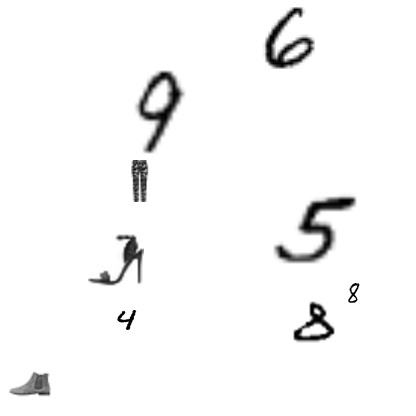4: (113, 305, 141, 333)
5: (259, 170, 371, 282)
6: (242, 2, 326, 86)
8: (286, 296, 342, 352), (339, 278, 367, 306)
9: (104, 48, 216, 160)
Ankle_boot: (9, 363, 51, 405)
Sandal: (88, 231, 144, 287)
Trouser: (118, 160, 160, 202)
